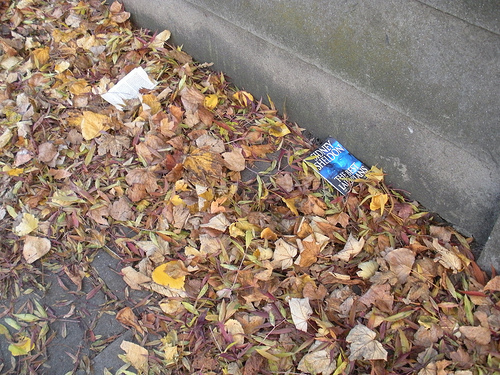litter: (304, 136, 372, 199), (102, 66, 157, 112)
